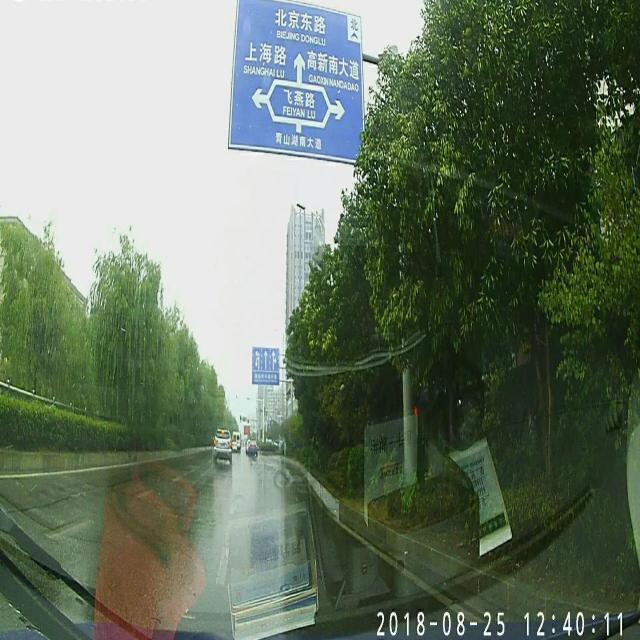car: (214, 428, 230, 466), (245, 436, 259, 456)
